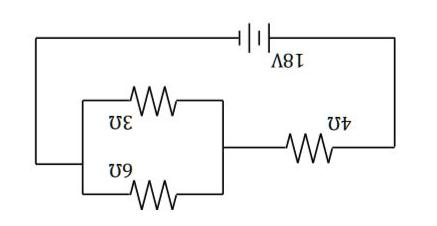Battery: (217, 10, 281, 53)
